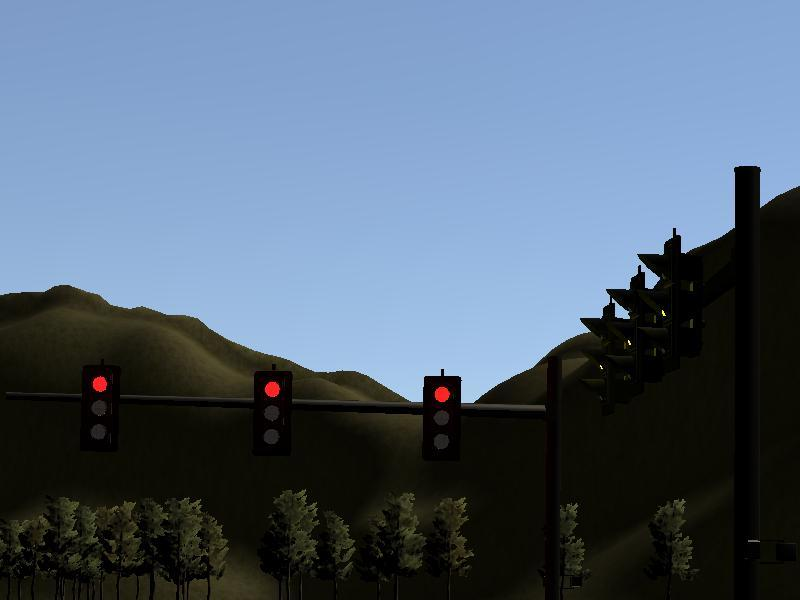Red: (80, 366, 120, 450), (421, 376, 461, 460), (251, 372, 291, 456)
